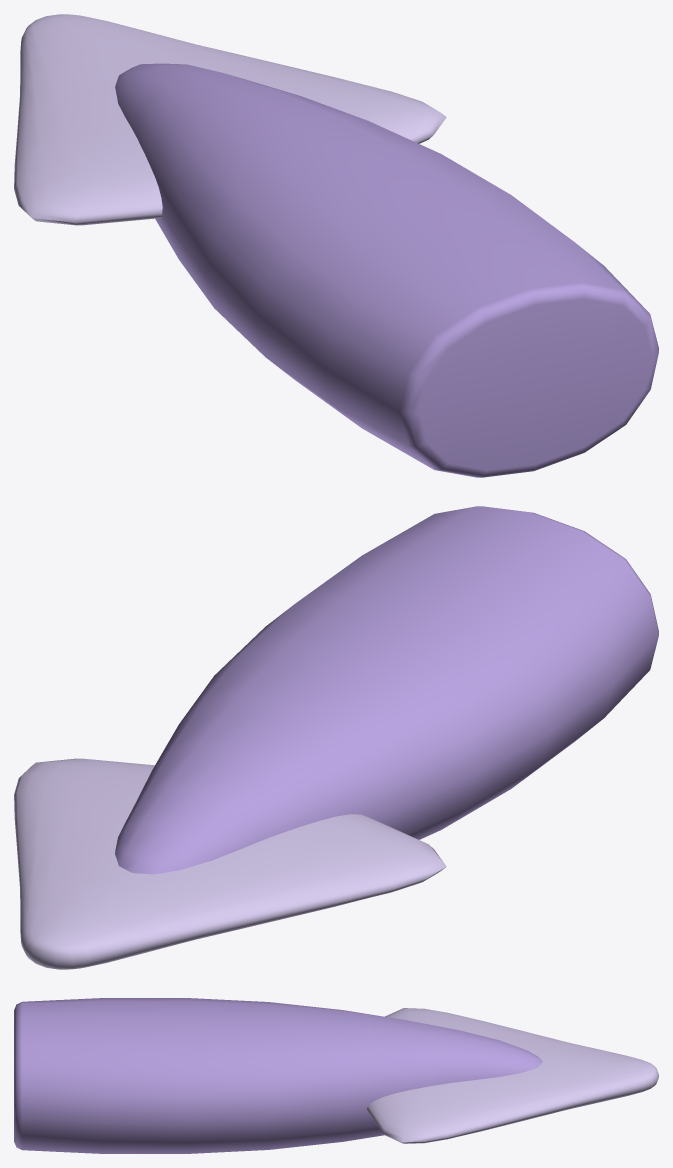
Rendered from Squid_3_Half_1.fbx.
The picture shows the model from 3 angles, top to bottom: view 1: azimuth 30°, elevation 25°; view 2: azimuth 150°, elevation 25°; view 3: azimuth 270°, elevation 25°; orthographic projection. The views are drawn at different scales.
Parts seen in each view (by area): view 1: Squid_3_Half_1; view 2: Squid_3_Half_1; view 3: Squid_3_Half_1.
Part boxes in pixels (<box>): Squid_3_Half_1: <box>14,14,658,477</box>; Squid_3_Half_1: <box>14,506,658,969</box>; Squid_3_Half_1: <box>14,998,658,1153</box>.
Size of the model in its own units: 16.29 by 6.85 by 33.46.
